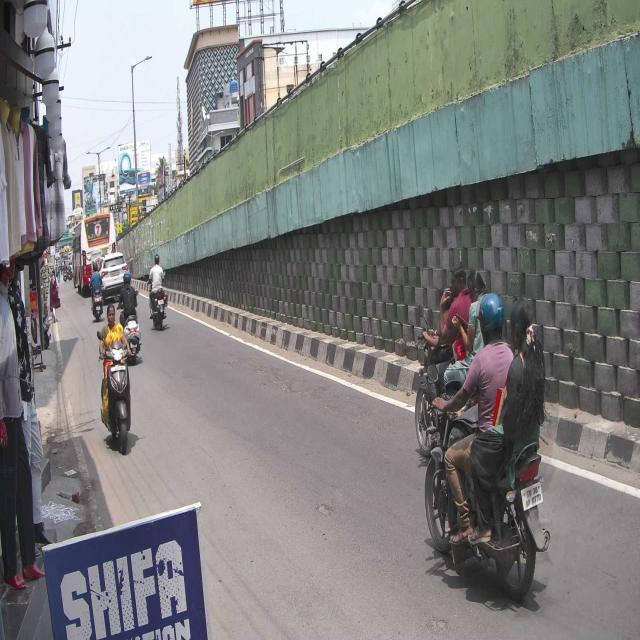double_rider: (424, 290, 553, 600)
single_rider: (99, 304, 133, 458)
